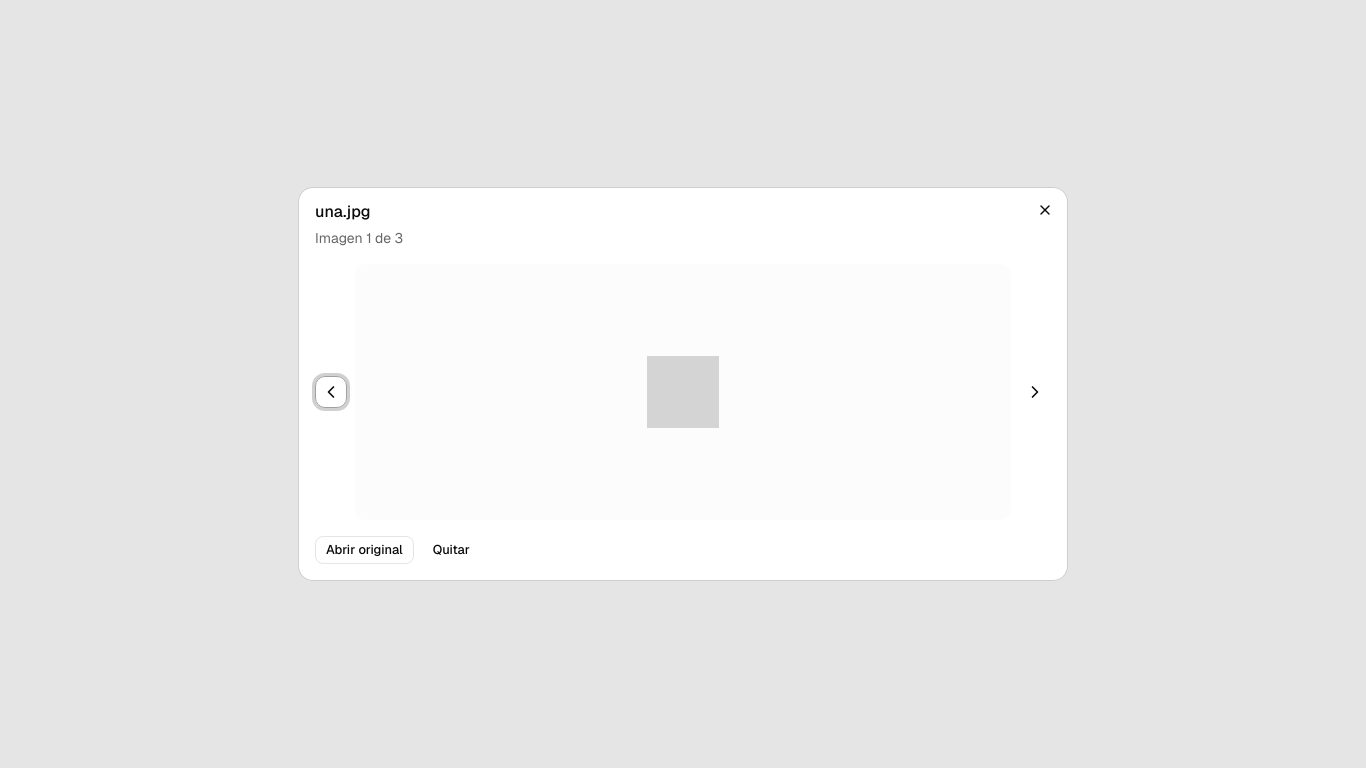
Scenario: visor de imágenes › un fallo al quitar se cuenta y no cierra
Click the button with test id "viewer-detach" at (451, 550), box x1=422 y1=536 x2=481 y2=564
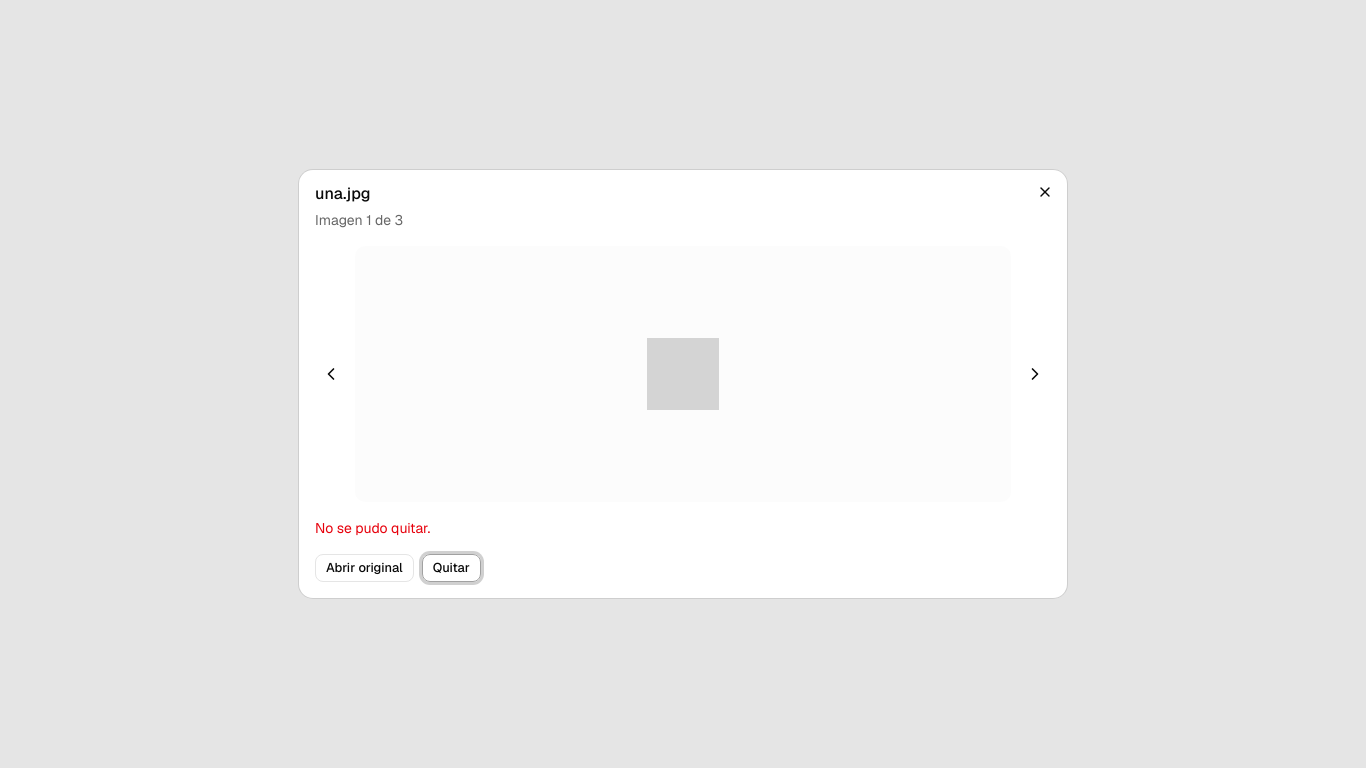
expect the message reads "No se pudo quitar.": met, box x1=315 y1=519 x2=430 y2=537
